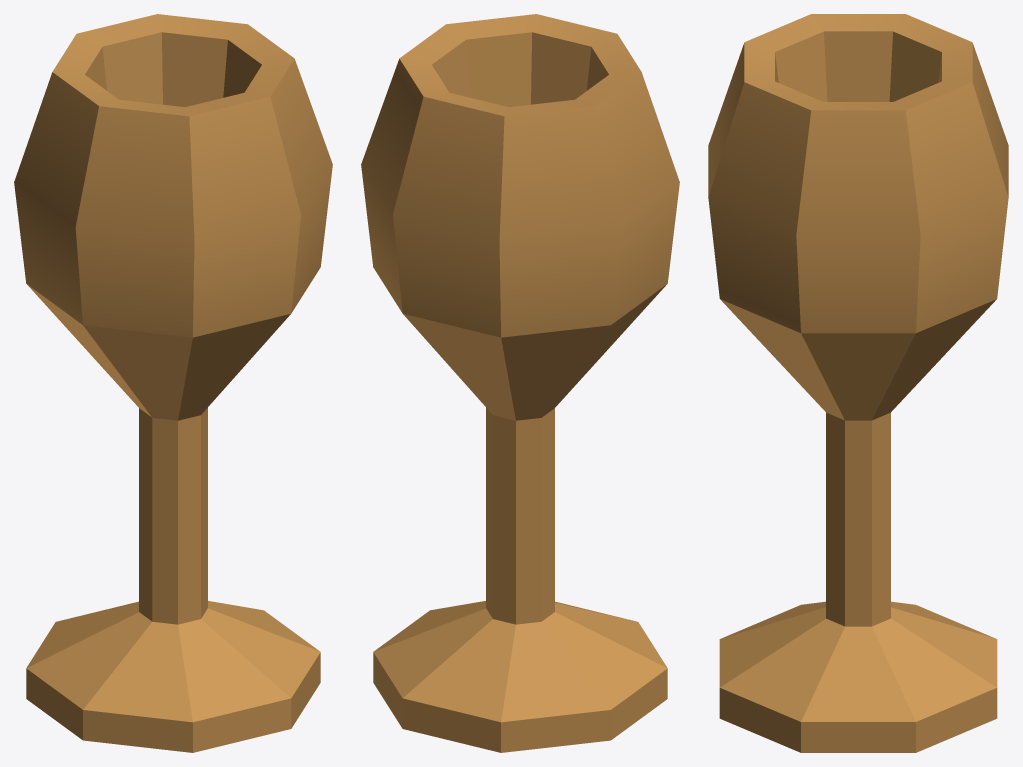
The model's file is SM_Prop_Gold_Cup_03.glb.
3 views of the same model, side by side, from view 1: azimuth 30°, elevation 25°; view 2: azimuth 150°, elevation 25°; view 3: azimuth 270°, elevation 25° (orthographic).
Visible parts, largest first — view 1: SM_Prop_Gold_Cup_03; view 2: SM_Prop_Gold_Cup_03; view 3: SM_Prop_Gold_Cup_03.
Part boxes in pixels (box(x1,y1,x2,y2)): SM_Prop_Gold_Cup_03: box(14, 14, 332, 752); SM_Prop_Gold_Cup_03: box(361, 14, 679, 752); SM_Prop_Gold_Cup_03: box(708, 14, 1008, 752).
Size of the model in its own units: 0.1672 by 0.3885 by 0.1672.
1 material, 1 textured.
